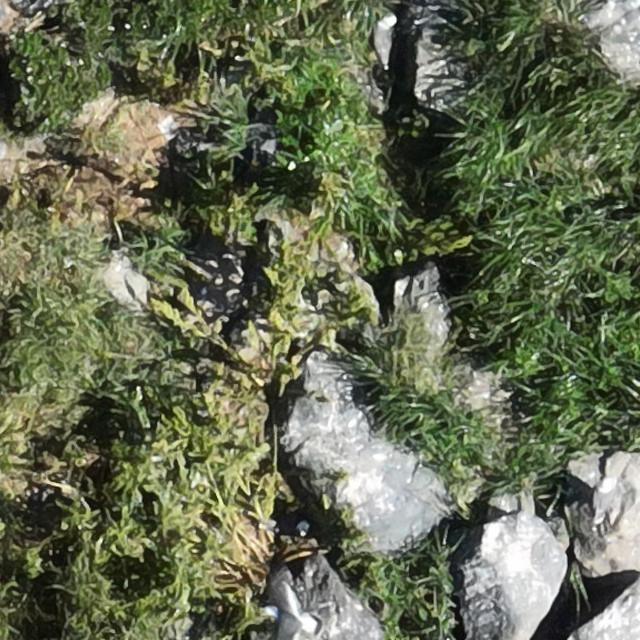F: (262, 572, 322, 640)
umineko: (592, 478, 618, 527), (373, 14, 393, 60)
